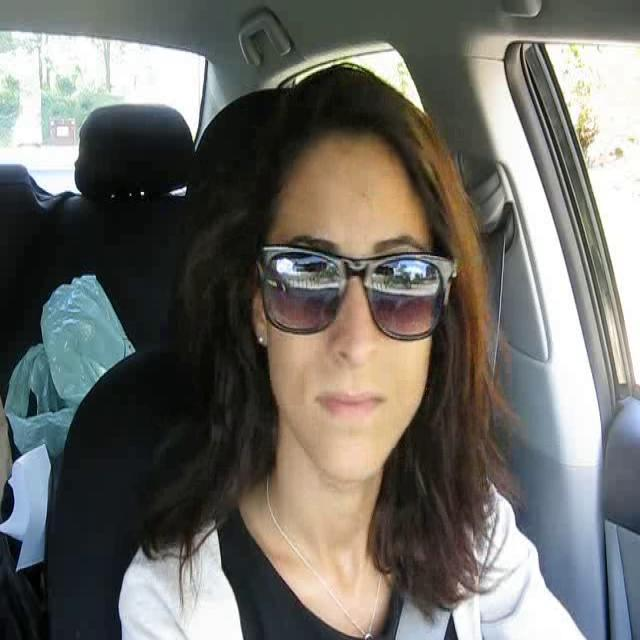close: (310, 378, 386, 425)
